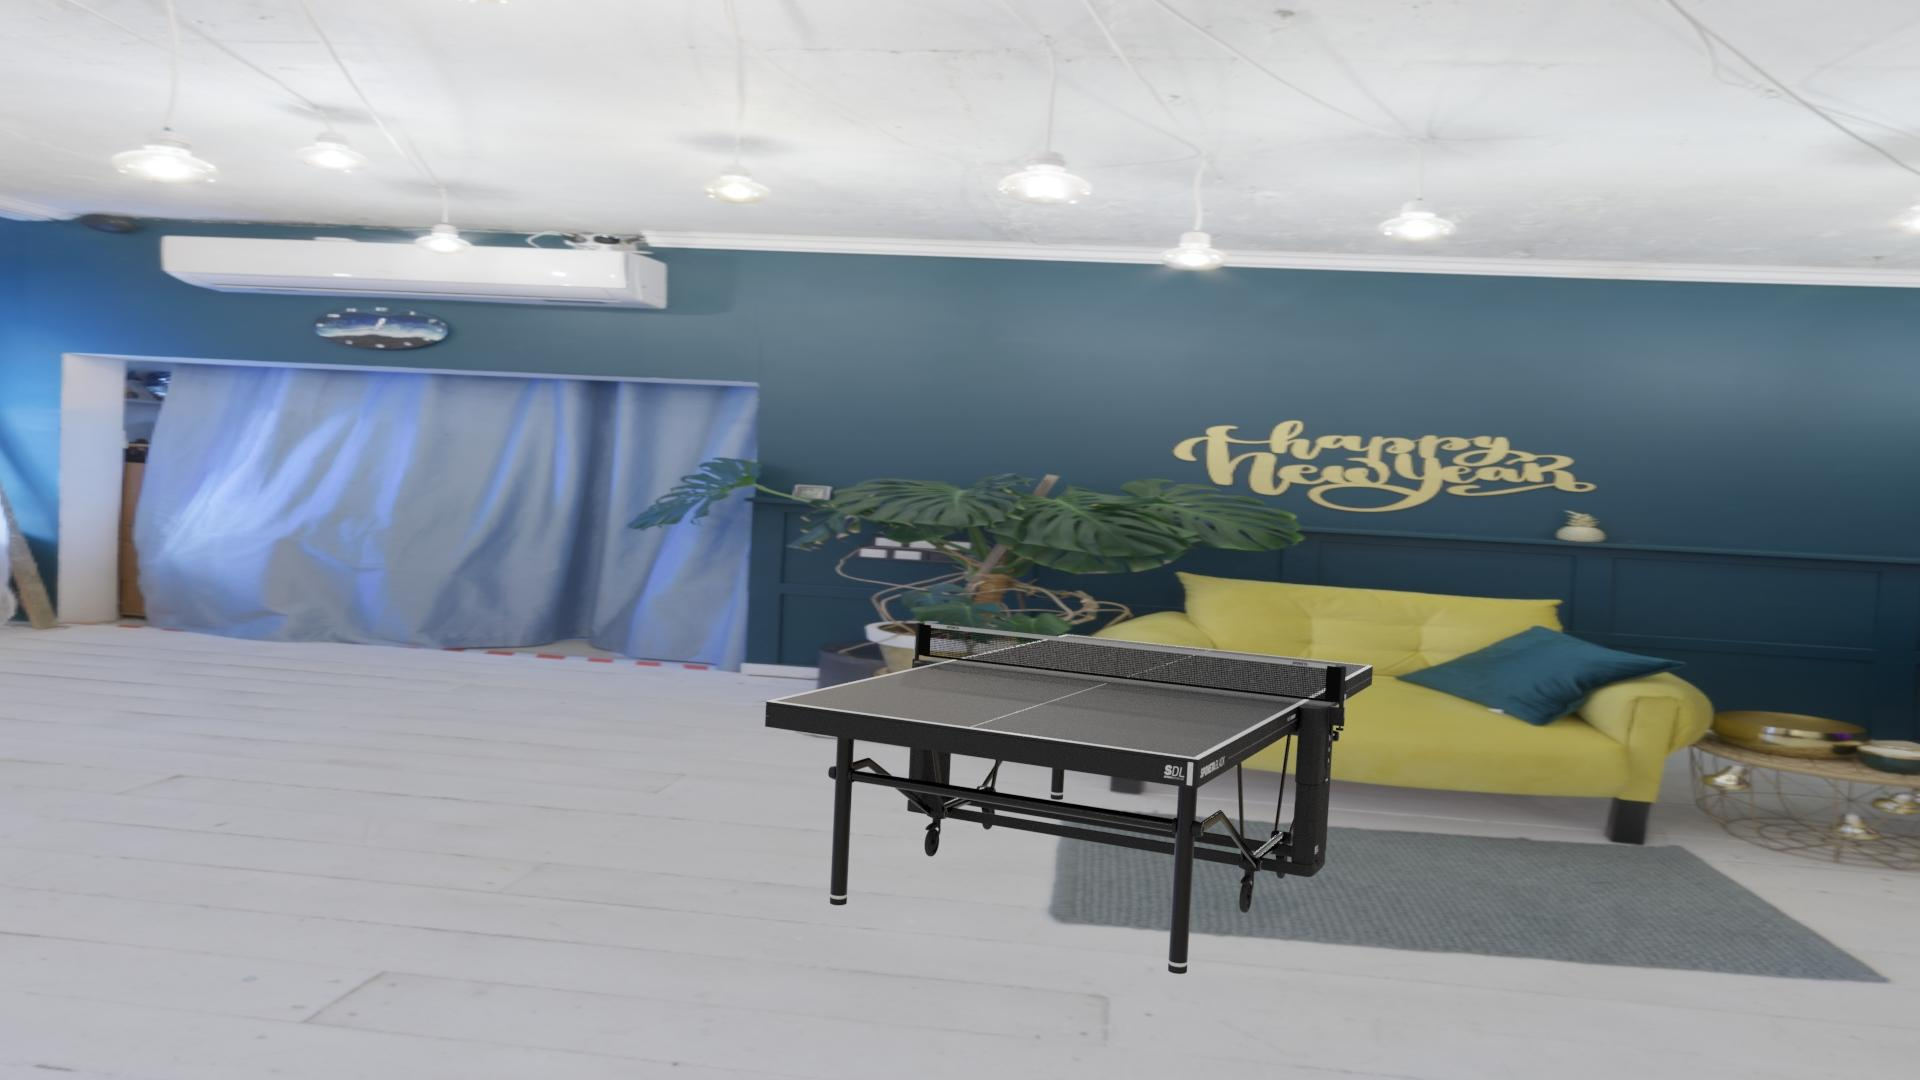table: (774, 636, 1367, 757)
